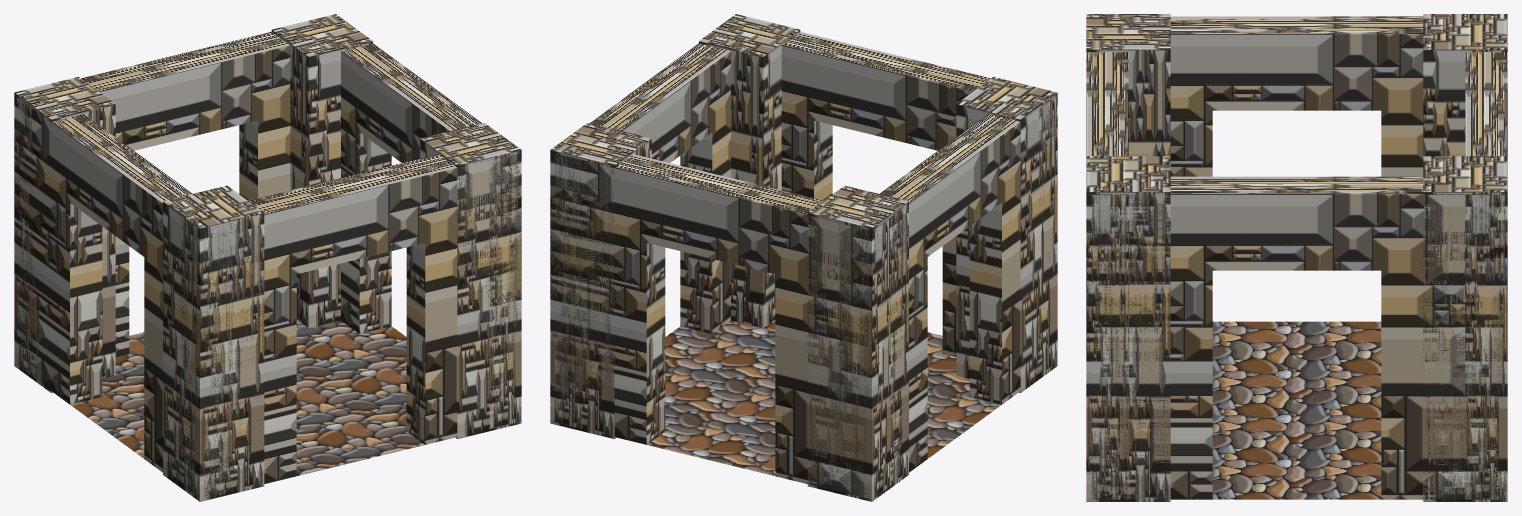
The model's file is 1x1-4NESW.fbx.
3 views of the same model, side by side, from view 1: azimuth 30°, elevation 25°; view 2: azimuth 150°, elevation 25°; view 3: azimuth 270°, elevation 25° (orthographic). The views are drawn at different scales.
Parts seen in each view (by area): view 1: Cube_9, Cube_5, Cube_3_2, Cube, Plane, Cube_3_3, Cube_13, Cube_2_2, Cube_5_2, Cube_6, Cube_10, Cube_14 (+1 smaller); view 2: Cube, Cube_5, Cube_9, Plane, Cube_5_2, Cube_13, Cube_3_2, Cube_2_2, Cube_3_3, Cube_6, Cube_2, Cube_14 (+1 smaller); view 3: Cube_13, Plane, Cube_5, Cube_3_3, Cube_9, Cube, Cube_2_2, Cube_3_2, Cube_5_2.
Boxes of the visible parts, x1,y1,x2,y2 form: Cube_9: (181,152,521,499); Cube_5: (14,95,232,498); Cube_3_2: (163,185,264,501); Cube: (14,32,290,376); Plane: (70,320,424,475); Cube_3_3: (420,123,521,438); Cube_13: (341,43,521,428); Cube_2_2: (271,14,372,327); Cube_5_2: (14,77,115,392); Cube_6: (70,203,102,404); Cube_10: (406,243,425,444); Cube_14: (359,132,391,333); Cube: (550,152,890,499); Cube_5: (839,104,1057,499); Cube_9: (781,32,1057,356); Plane: (647,320,1001,475); Cube_5_2: (807,185,908,501); Cube_13: (550,43,730,428); Cube_3_2: (956,77,1057,392); Cube_2_2: (550,123,651,438); Cube_3_3: (699,14,800,327); Cube_6: (969,203,1001,404); Cube_2: (646,243,665,444); Cube_14: (680,132,712,333); Cube_13: (1086,176,1507,499); Plane: (1212,321,1381,499); Cube_5: (1170,16,1423,176); Cube_3_3: (1086,156,1170,501); Cube_9: (1086,52,1128,499); Cube: (1465,52,1507,499); Cube_2_2: (1423,156,1507,501); Cube_3_2: (1086,14,1170,156); Cube_5_2: (1423,14,1507,156).
Size of the model in its own units: 10 by 8.12 by 10.
2 materials, 2 textured.
